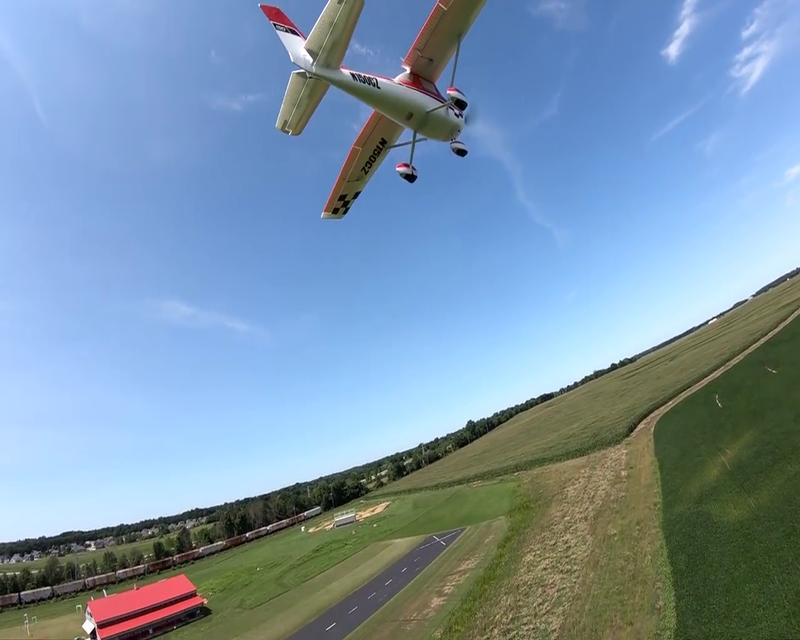UAV: (257, 0, 488, 220)
